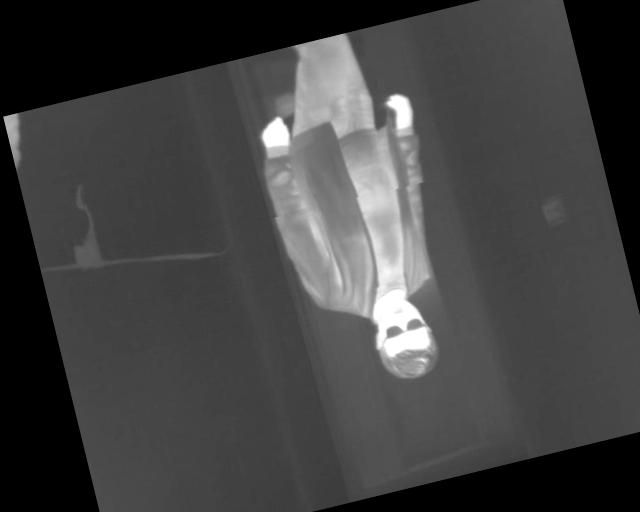face: (365, 291, 444, 387)
